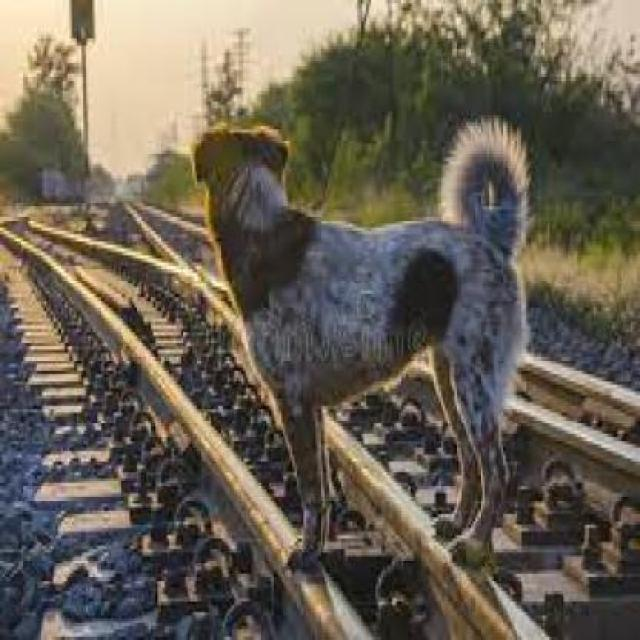danger: (187, 114, 547, 574)
rail: (1, 153, 635, 635)
